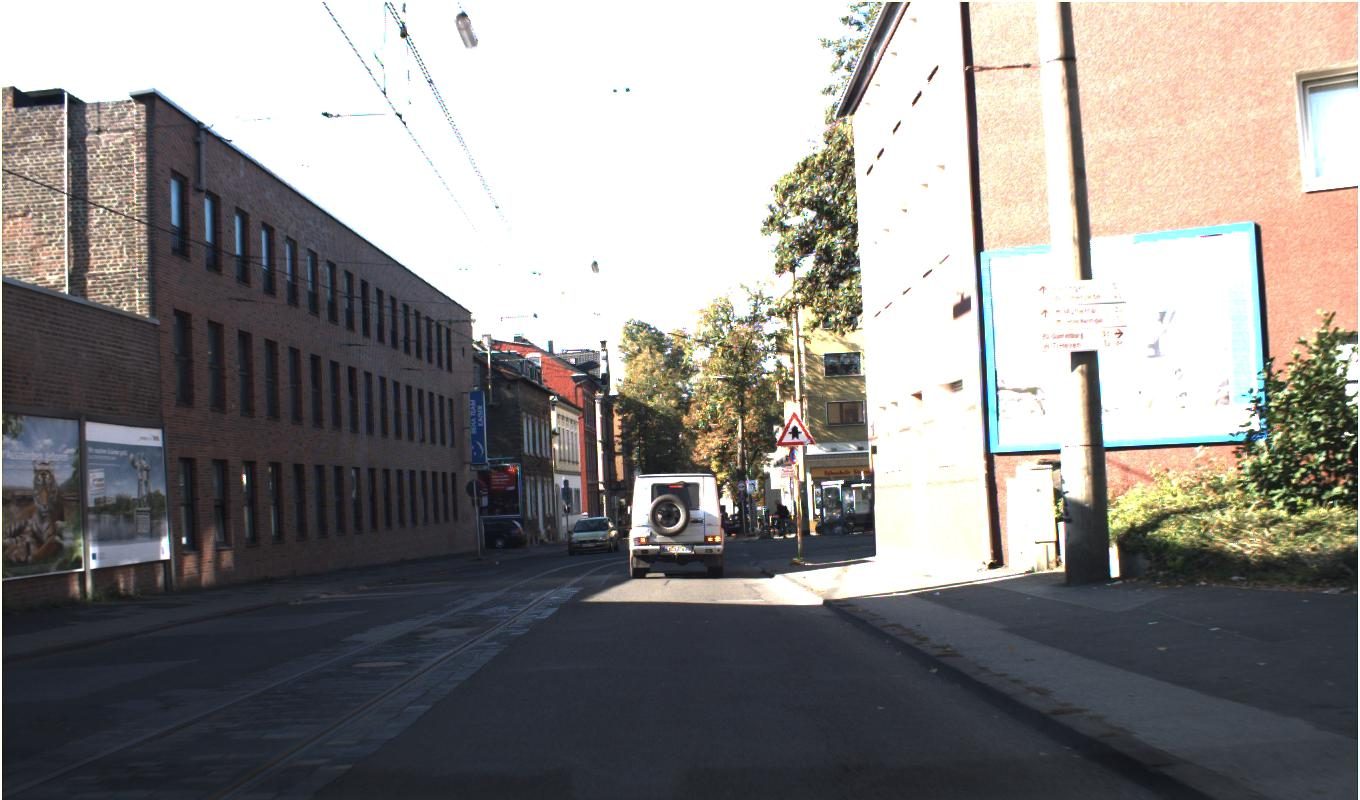danger: (774, 411, 815, 446)
